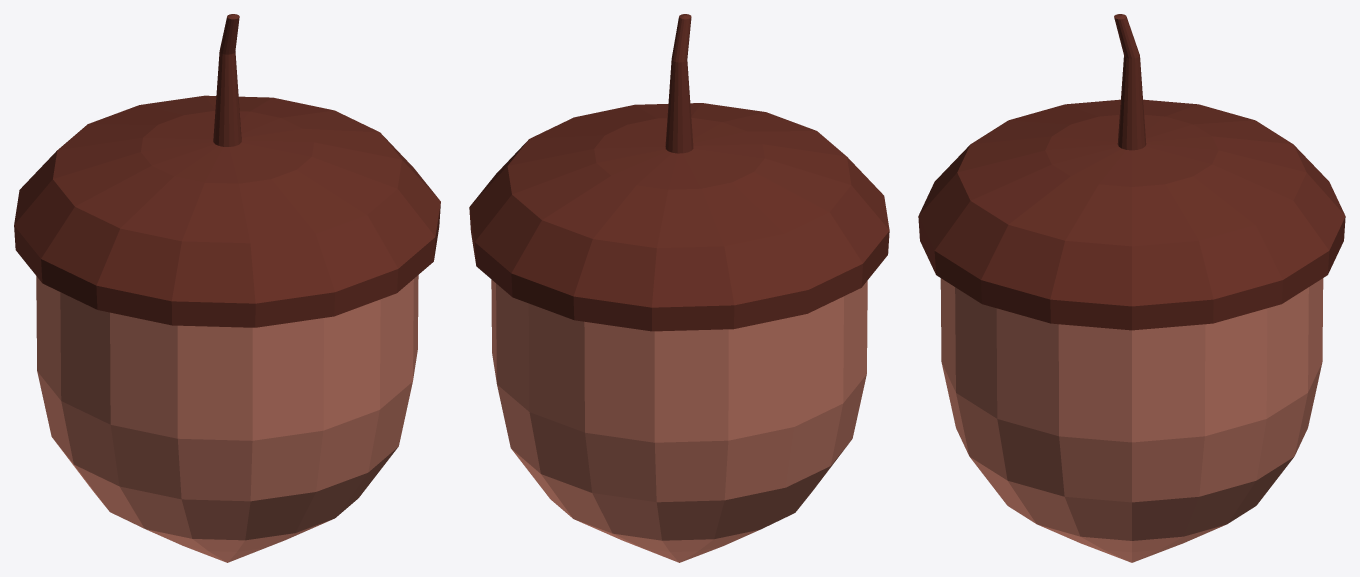
The model's file is Acorn.fbx.
3 renders of one model, left to right at view 1: azimuth 30°, elevation 25°; view 2: azimuth 150°, elevation 25°; view 3: azimuth 270°, elevation 25°, orthographic.
Parts seen in each view (by area): view 1: Acorn; view 2: Acorn; view 3: Acorn.
Part boxes in pixels (left/top/right/bottom): Acorn: left=14, top=14, right=440, bottom=562; Acorn: left=469, top=14, right=889, bottom=562; Acorn: left=918, top=14, right=1345, bottom=562.
Size of the model in its own units: 1.57 by 2.22 by 1.57.
